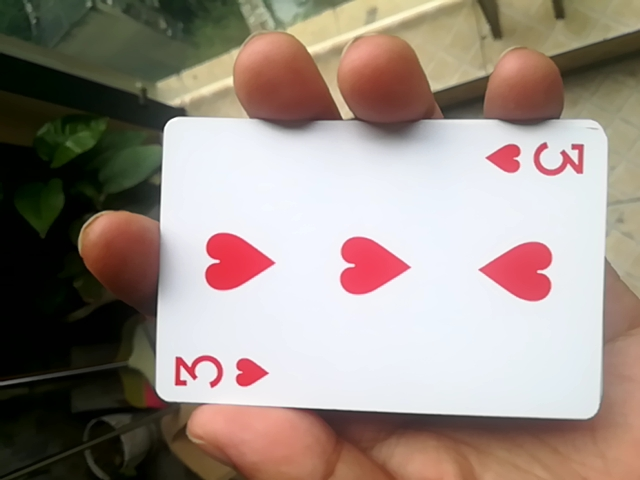hx 3: (152, 107, 605, 423)
